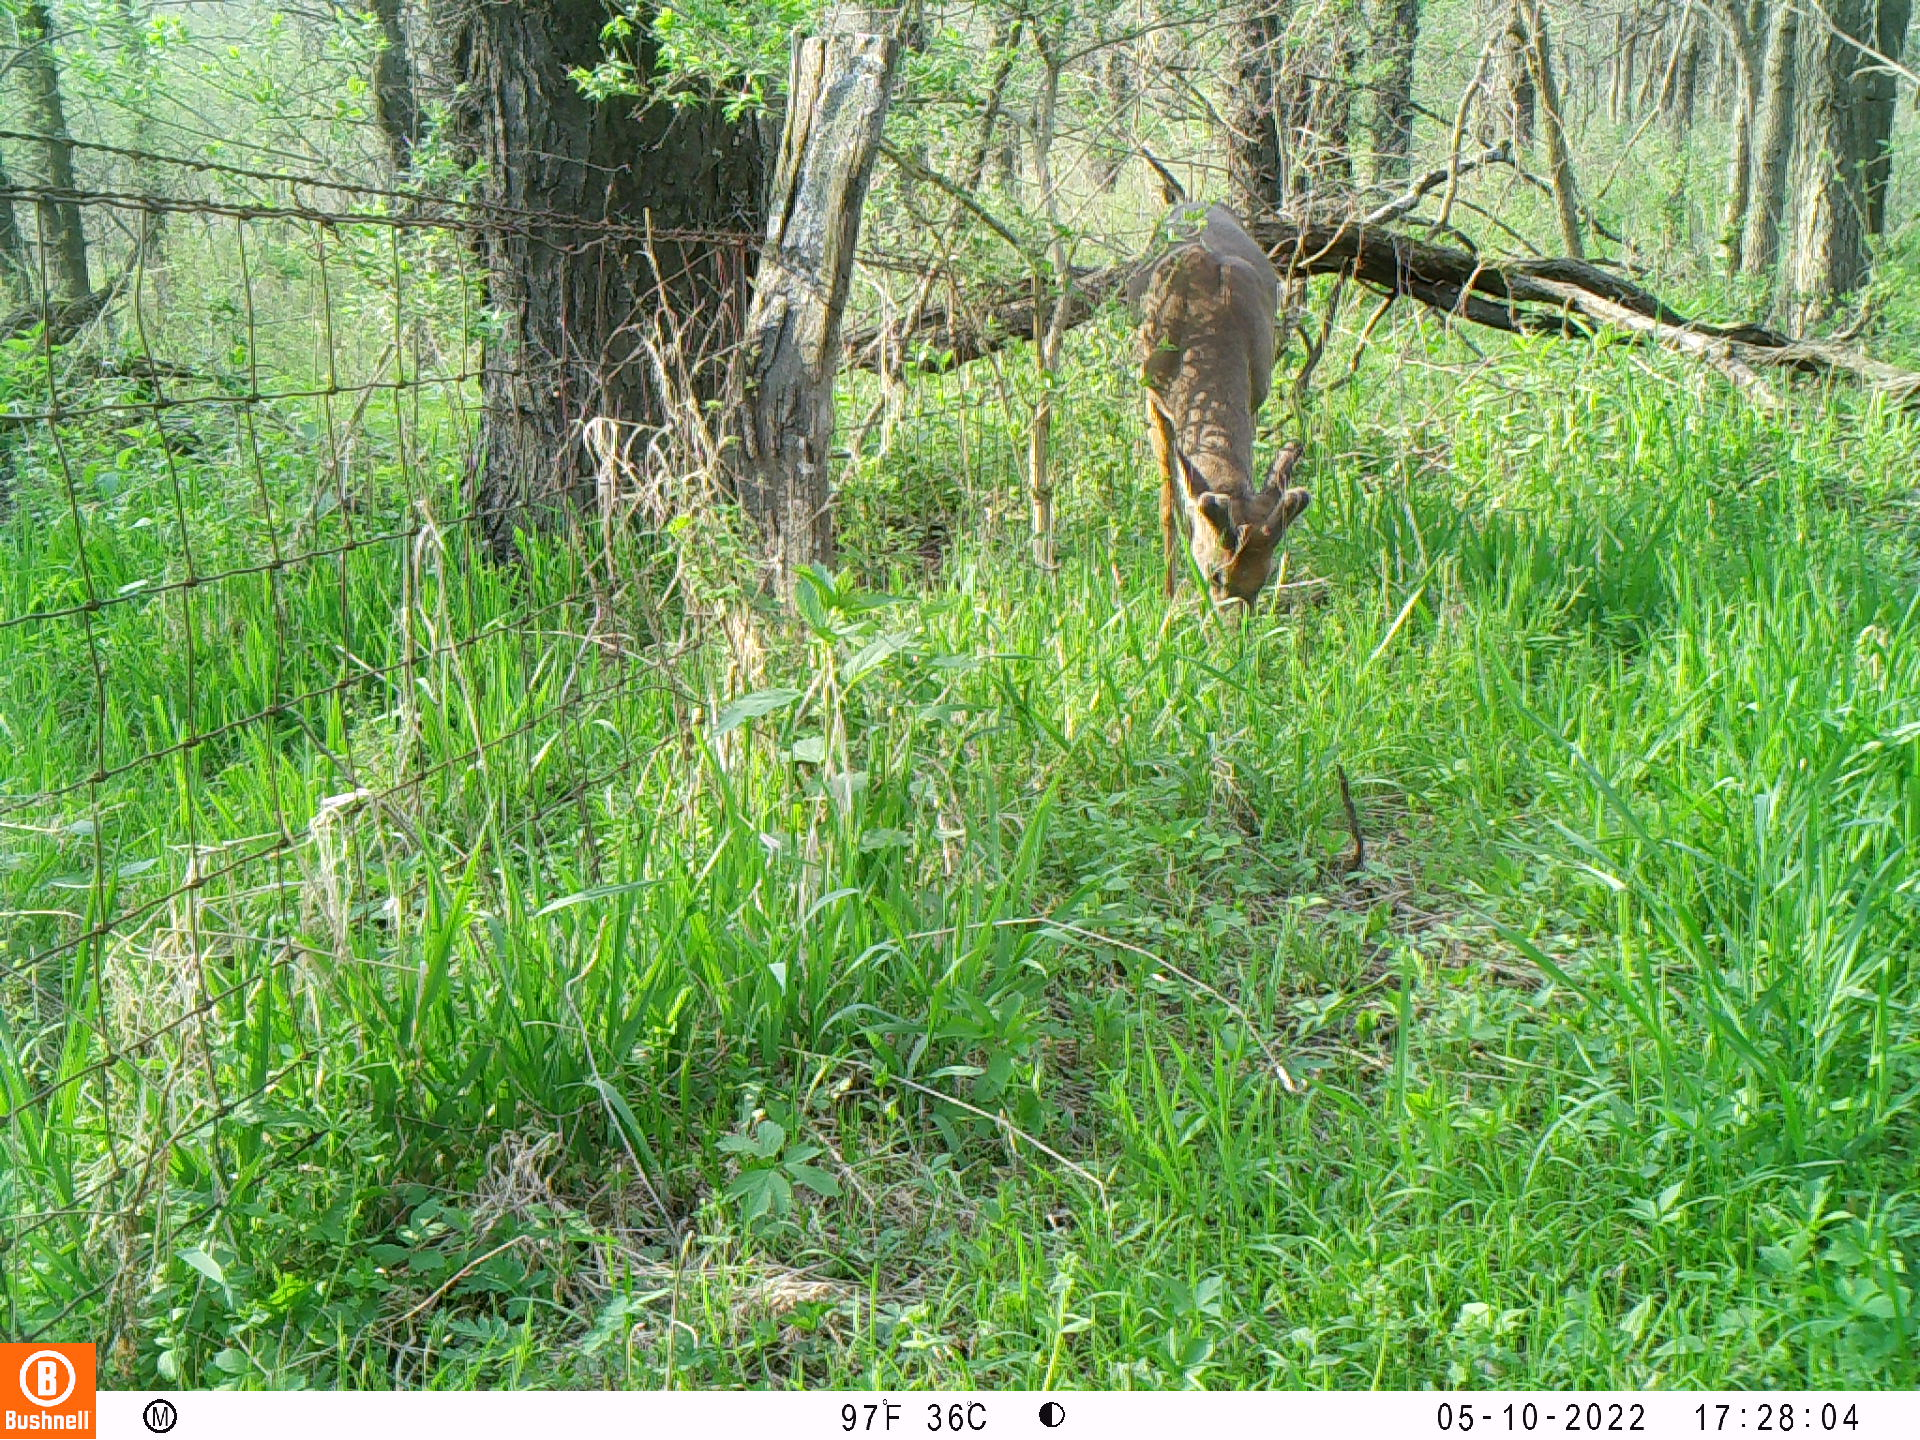DeerBuck: (1133, 197, 1313, 611)
DeerBuckHead: (1181, 434, 1314, 608)
